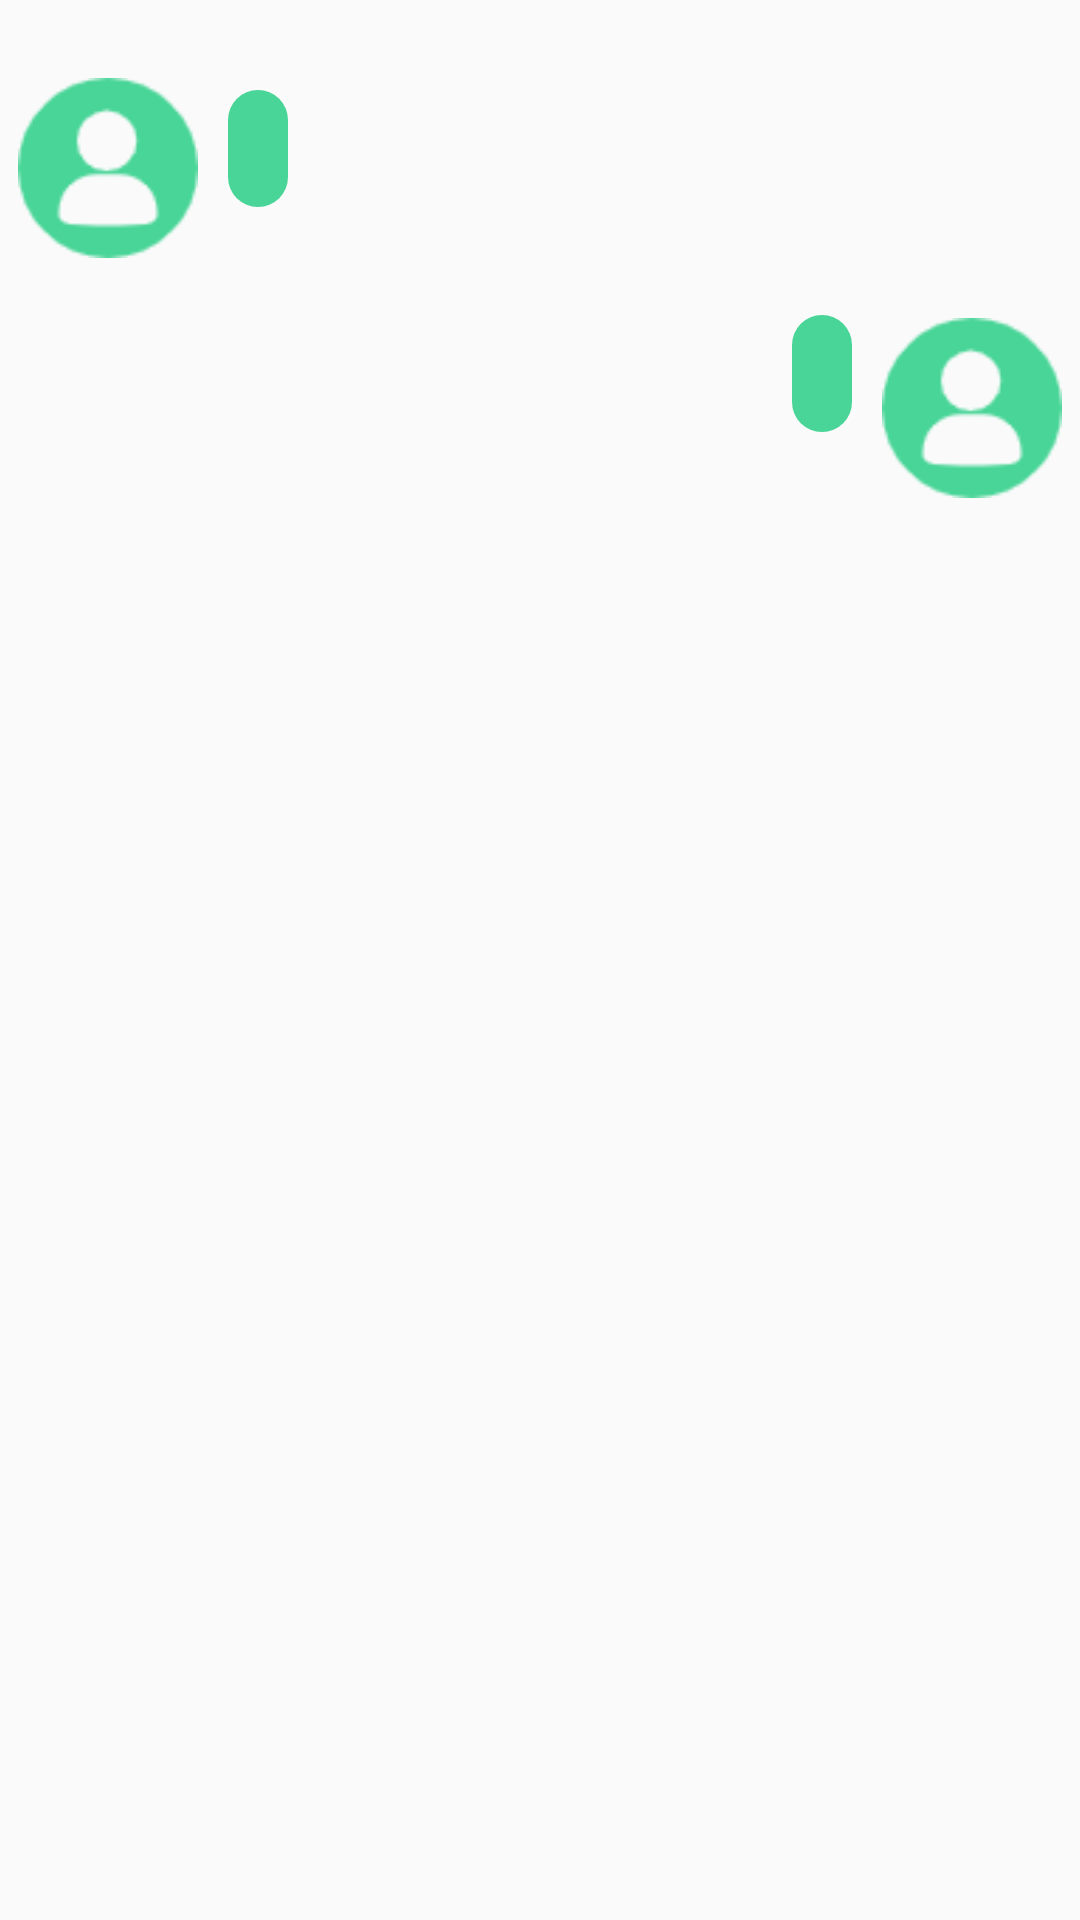

Icons on this 1080px x 1920px Android screen, each with the point to tap as (x=x, y=y):
head: (x=108, y=168), (x=972, y=408)
